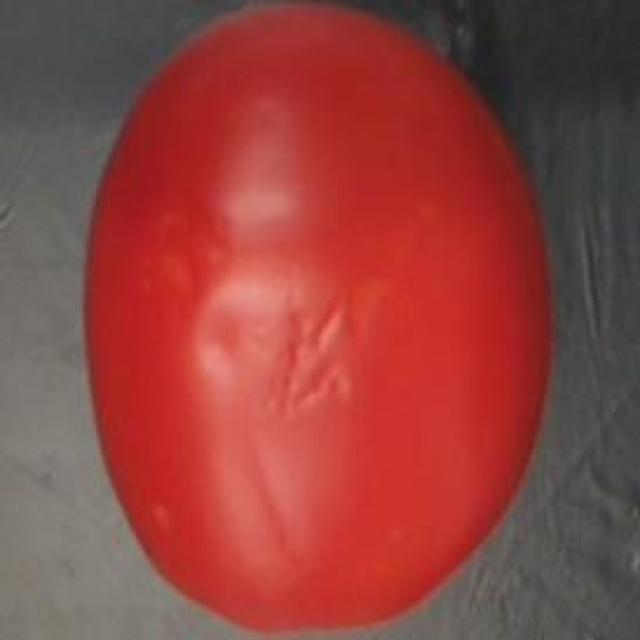ripe tomato: (75, 0, 574, 640)
